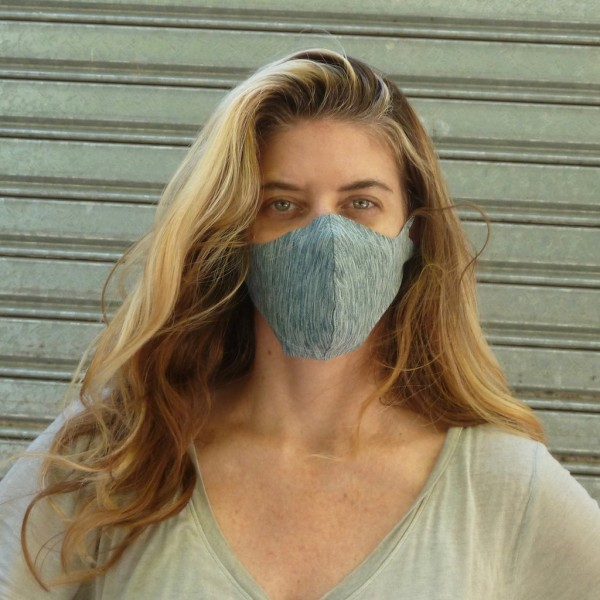barbijo: (227, 201, 424, 364)
